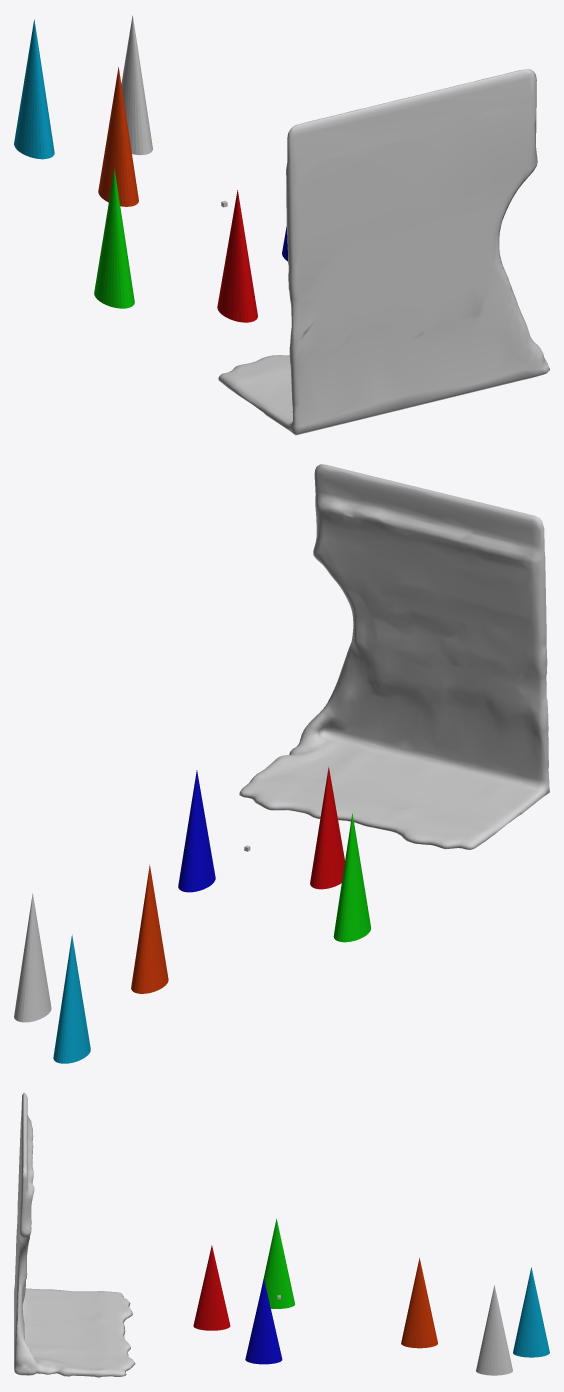
3 views of the same model, one above another, from view 1: azimuth 30°, elevation 25°; view 2: azimuth 150°, elevation 25°; view 3: azimuth 270°, elevation 25° (orthographic). The views are drawn at different scales.
Visible parts, largest first — view 1: Liquid_Domain, 円錐.003, 円錐.005, 円錐.001, 円錐.004, 円錐; view 2: Liquid_Domain, 円錐.005, 円錐, 円錐.004, 円錐.003, 円錐.002, 円錐.001; view 3: Liquid_Domain, 円錐.005, 円錐, 円錐.004, 円錐.002, 円錐.001, 円錐.003.
Boxes of the visible parts, bbox=[...] form: Liquid_Domain: bbox=[218, 69, 549, 435]; 円錐.003: bbox=[94, 168, 134, 308]; 円錐.005: bbox=[14, 19, 54, 159]; 円錐.001: bbox=[217, 190, 257, 322]; 円錐.004: bbox=[98, 67, 138, 206]; 円錐: bbox=[121, 15, 152, 155]; Liquid_Domain: bbox=[239, 464, 549, 849]; 円錐.005: bbox=[53, 934, 90, 1063]; 円錐: bbox=[14, 893, 51, 1022]; 円錐.004: bbox=[131, 864, 168, 993]; 円錐.003: bbox=[333, 813, 370, 942]; 円錐.002: bbox=[178, 770, 215, 892]; 円錐.001: bbox=[310, 766, 344, 889]; Liquid_Domain: bbox=[14, 1092, 135, 1377]; 円錐.005: bbox=[513, 1267, 549, 1357]; 円錐: bbox=[476, 1285, 512, 1375]; 円錐.004: bbox=[401, 1258, 437, 1348]; 円錐.002: bbox=[245, 1278, 282, 1364]; 円錐.001: bbox=[193, 1245, 230, 1330]; 円錐.003: bbox=[263, 1219, 294, 1308].
Bounding box in the file's own units: 129 × 158 × 347.
